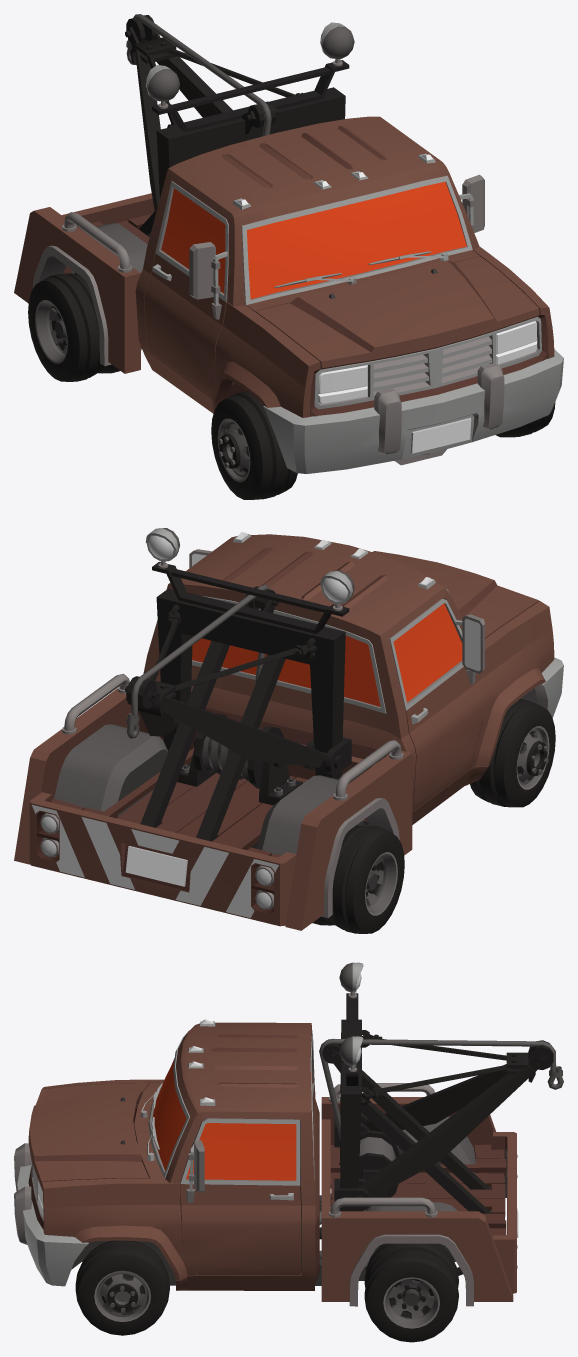
Rendered from car6.fbx.
3 renders of one model, top to bottom at view 1: azimuth 30°, elevation 25°; view 2: azimuth 150°, elevation 25°; view 3: azimuth 270°, elevation 25°, orthographic. The views are drawn at different scales.
Visible parts, largest first — view 1: Body.003, v_Tow_truck.010, Bumper_F.003, TowTruckBed, Doors_FR.001, SideSkirt_RR, Fender_FR.003, Grill_F.001, Wheel_RR.003, Wheel_FR.003, Bumper_R.003, Fender_FL.003 (+6 smaller); view 2: TowTruckBed, Body.003, Bumper_R.003, Doors_FR.001, SideSkirt_RR, Fender_FR.003, Wheel_RR.003, Wheel_FR.003, SideSkirt_RL, v_Tow_truck.010, Wire, Bumper_F.003 (+2 smaller); view 3: TowTruckBed, Body.003, Doors_FL.001, SideSkirt_RL, v_Tow_truck.010, Fender_FL.003, Wheel_RL.003, Wheel_FL.003, Bumper_F.003, Bumper_R.003, SideSkirt_RR, Wire (+3 smaller).
Part boxes in pixels (x1,y1,x2,y2): Body.003: (70,116,480,413); v_Tow_truck.010: (255,256,539,369); Bumper_F.003: (263,349,563,473); TowTruckBed: (82,14,349,272); Doors_FR.001: (144,181,228,398); SideSkirt_RR: (14,207,140,373); Fender_FR.003: (209,302,320,417); Grill_F.001: (310,316,547,416); Wheel_RR.003: (28,272,141,381); Wheel_FR.003: (211,391,297,499); Bumper_R.003: (62,193,154,273); Fender_FL.003: (473,246,554,358); TowTruckBed: (52,562,377,865); Body.003: (57,532,489,894); Bumper_R.003: (29,792,296,926); Doors_FR.001: (389,598,484,811); SideSkirt_RR: (285,740,412,930); Fender_FR.003: (469,601,554,769); Wheel_RR.003: (312,825,404,933); Wheel_FR.003: (470,698,555,807); SideSkirt_RL: (14,673,131,864); v_Tow_truck.010: (372,551,539,638); Wire: (193,713,284,788); Bumper_F.003: (521,657,563,717); TowTruckBed: (319,993,563,1236); Body.003: (71,1019,506,1290); Doors_FL.001: (180,1118,300,1275); SideSkirt_RL: (321,1197,513,1306); v_Tow_truck.010: (28,1083,149,1186); Fender_FL.003: (41,1178,196,1279); Wheel_RL.003: (364,1243,458,1342); Wheel_FL.003: (75,1240,169,1335); Bumper_F.003: (14,1143,88,1286); Bumper_R.003: (493,1132,518,1293); SideSkirt_RR: (321,1083,495,1149); Wire: (359,1130,399,1197).
Bounding box in the file's own units: 130 × 119 × 216.
